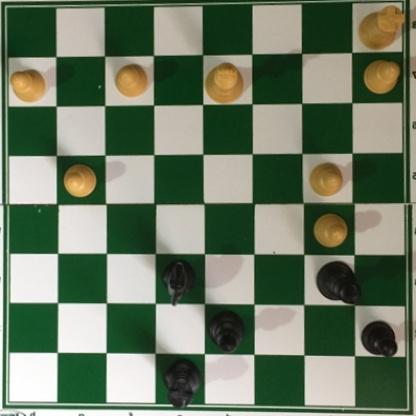black-bishop: (205, 312, 247, 354)
black-king: (314, 259, 364, 307)
black-knight: (160, 256, 197, 310)
black-pawn: (359, 321, 399, 359)
black-rook: (160, 362, 203, 412)
white-king: (203, 62, 245, 104)
white-pawn: (359, 57, 400, 96), (60, 161, 99, 201), (312, 212, 351, 251), (10, 69, 48, 108), (114, 63, 150, 101), (308, 162, 346, 198)
white-rook: (356, 5, 406, 52)
